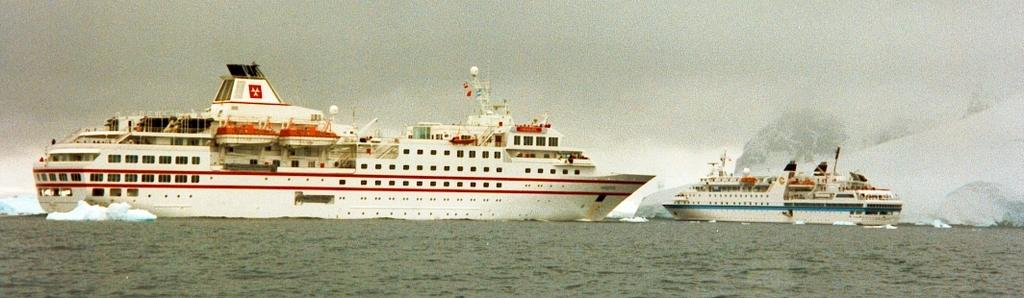PassengerShip: (35, 56, 657, 220), (661, 153, 915, 225)
